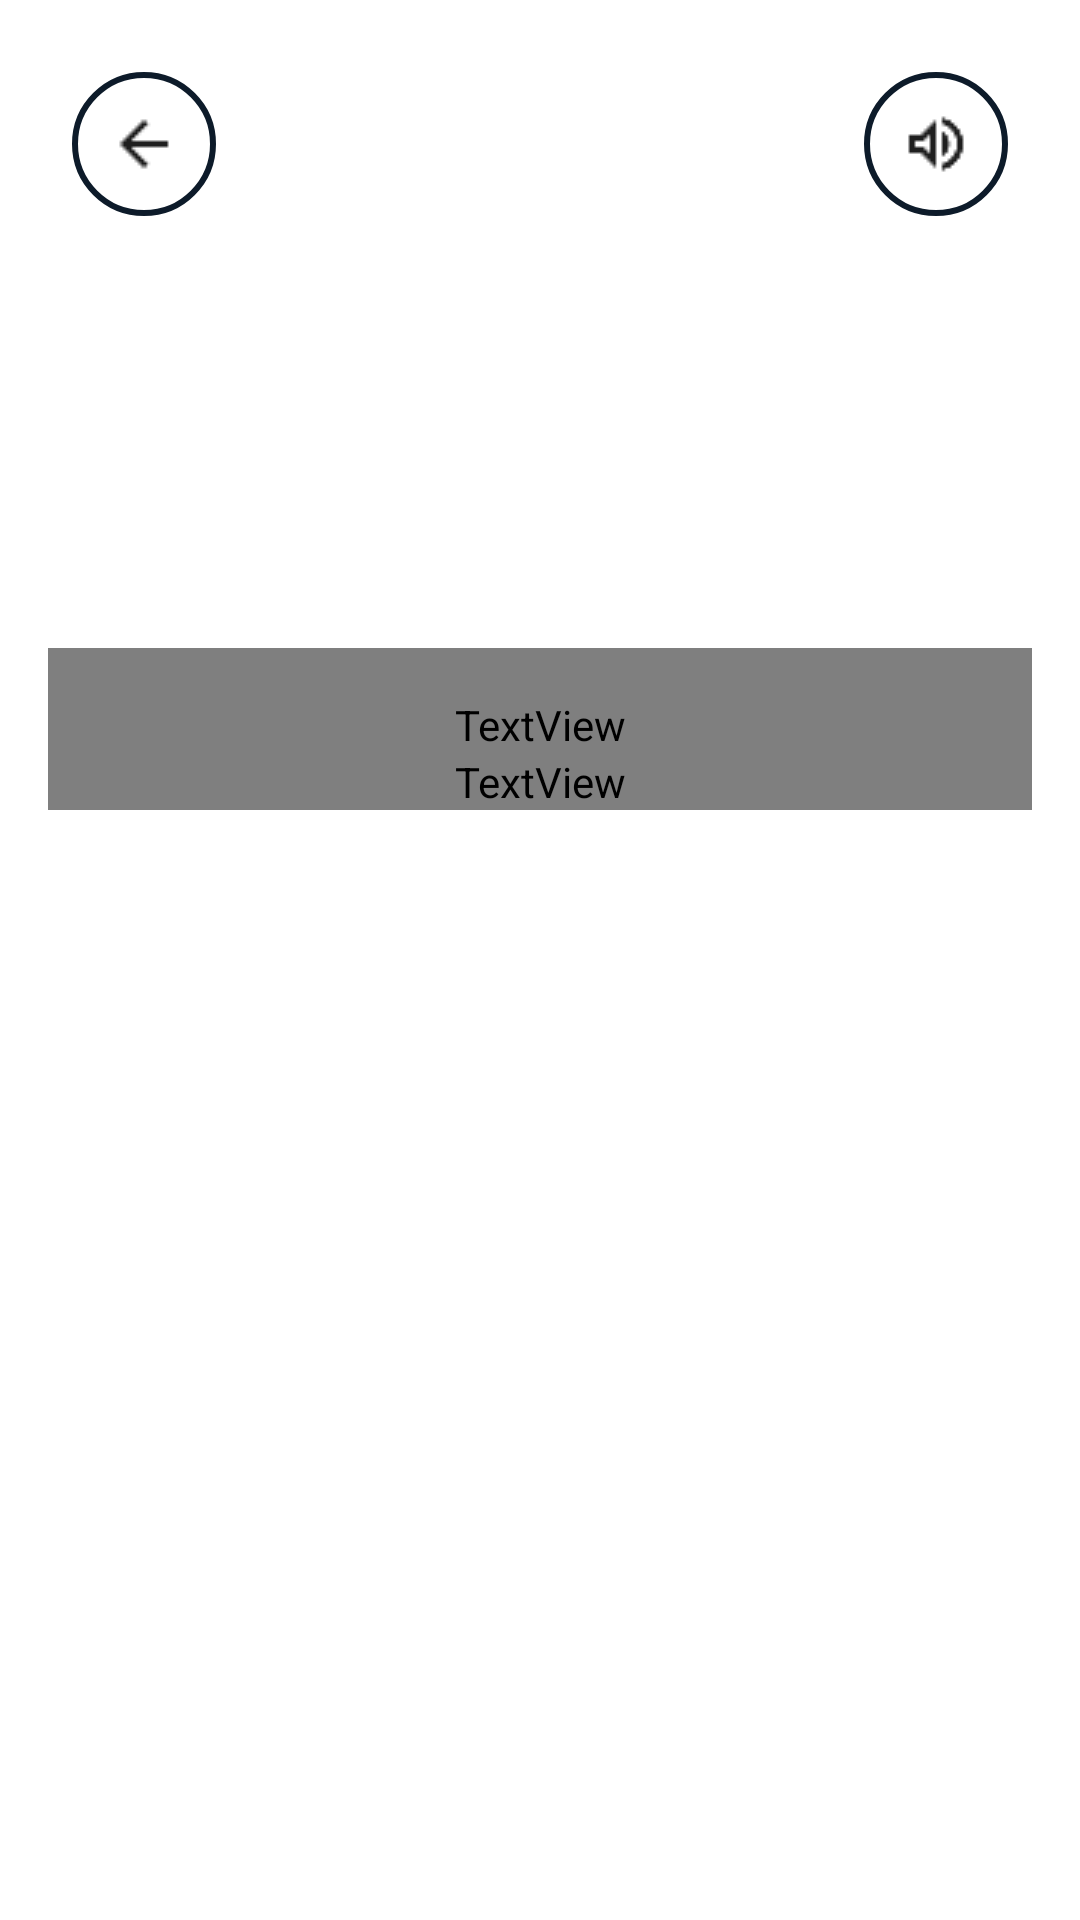

Locate icon controls on the screen. Image size 1080px×1920px, boxes as (x1, y1, x2, y2).
Audio: (864, 72, 1008, 216)
Previous: (72, 72, 216, 216)
